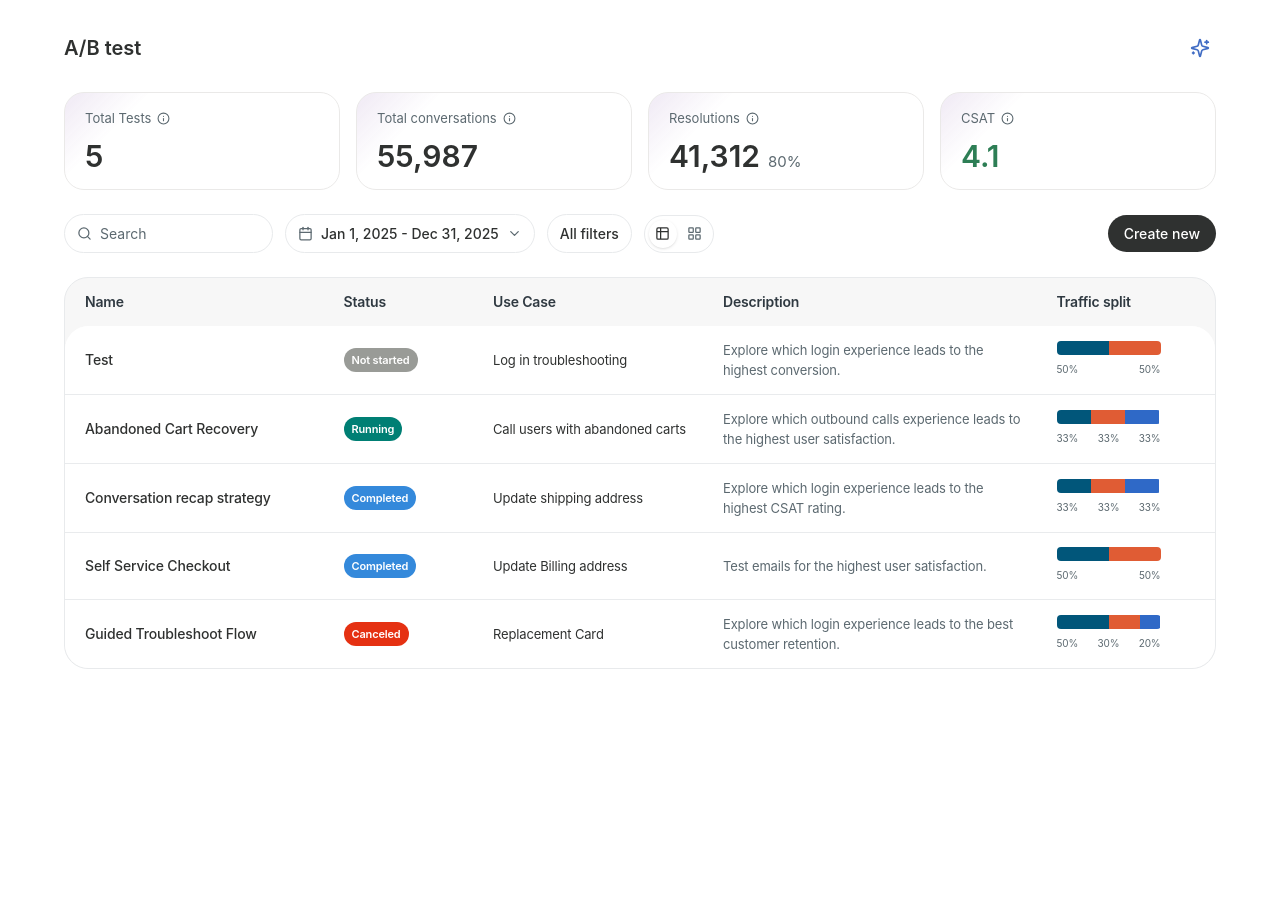
Test: per-screen header AI triggers (route-derived scope) › opens the scoped assistant from /experiment/ab-test header
The width and height of the screenshot is (1280, 900).
Click the button named "Ask AI about this page". click: (1200, 48)
box: [1184,32,1216,64]
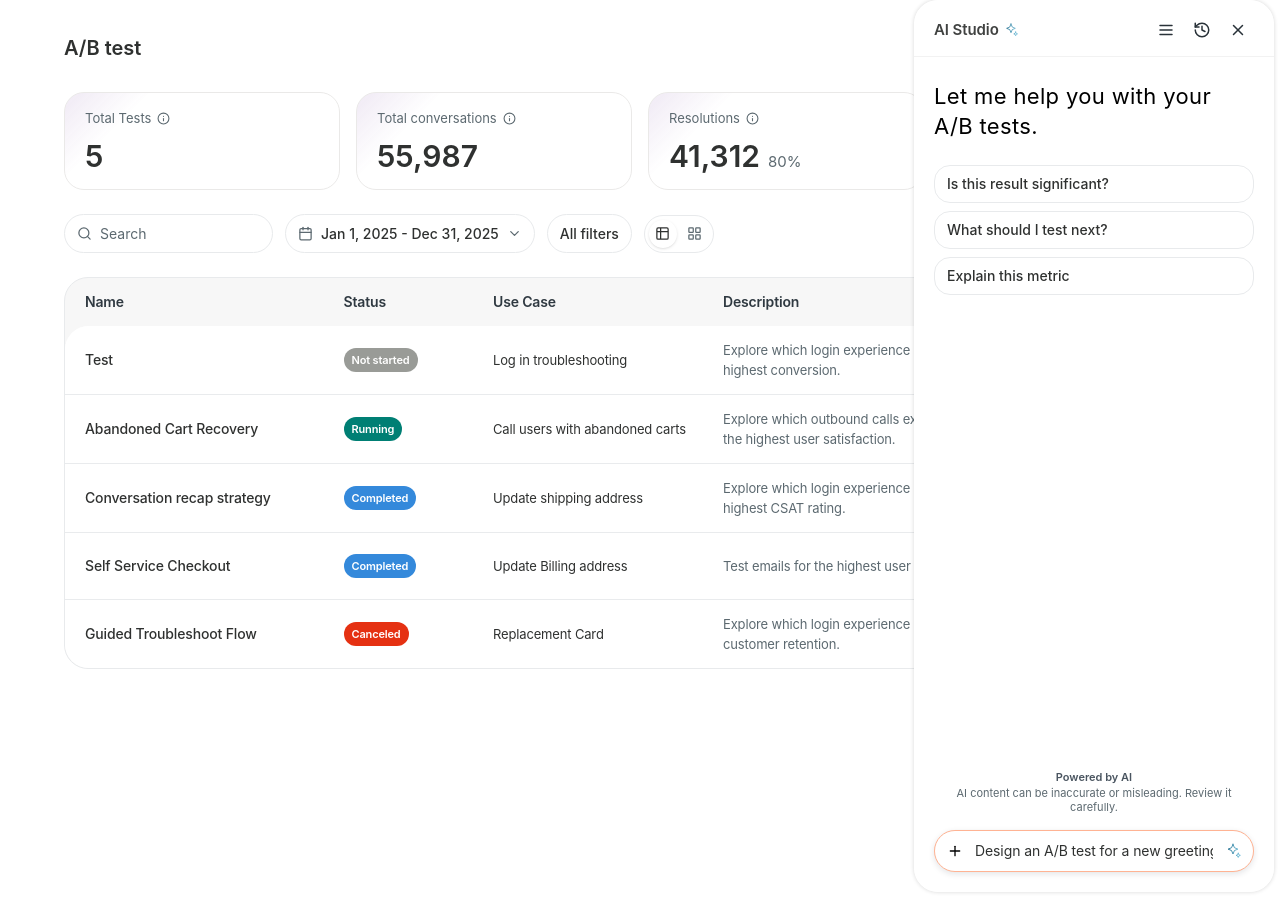
Now the element with test id "ai-studio-panel" is shown, box [914,0,1274,892]
Now the text "Let me help you with your A/B tests." is shown, box [934,81,1254,141]
